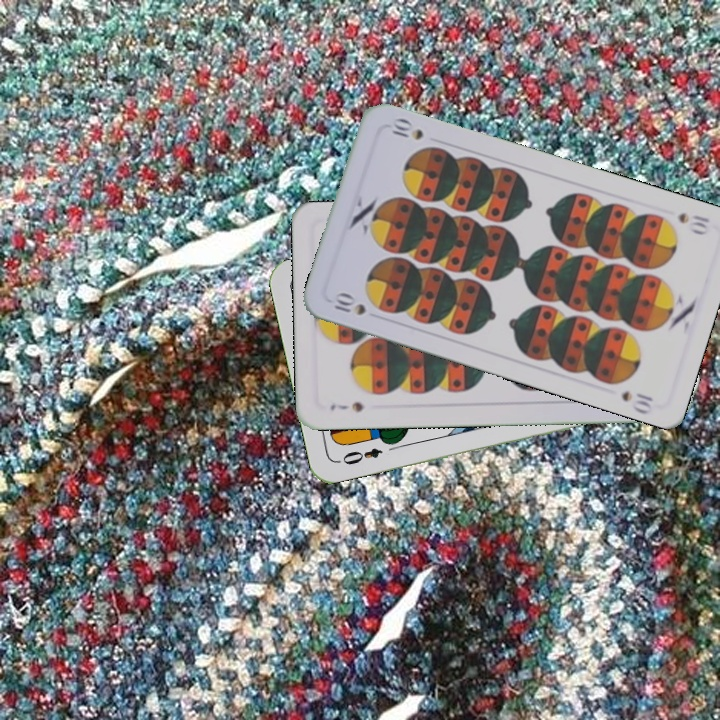EO: (334, 444, 385, 468)
S10: (328, 289, 369, 318), (674, 208, 713, 237)
S7: (326, 398, 366, 415)
